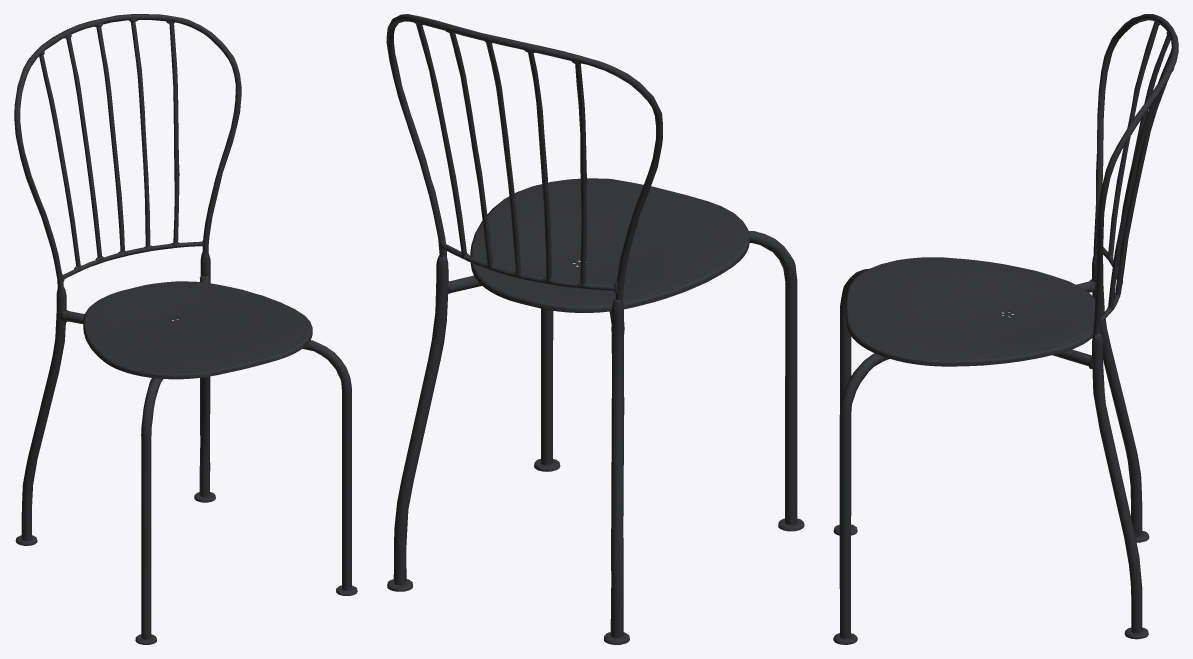
The model's file is lacko_krzeso_ogrodowe_60151840.glb.
The picture shows the model from 3 angles, left to right: view 1: azimuth 30°, elevation 25°; view 2: azimuth 150°, elevation 25°; view 3: azimuth 270°, elevation 25°; orthographic projection. The views are drawn at different scales.
Parts seen in each view (by area): view 1: lacko_krzeso_ogrodowe_60151840; view 2: lacko_krzeso_ogrodowe_60151840; view 3: lacko_krzeso_ogrodowe_60151840.
Part boxes in pixels (x1,y1,x2,y2): lacko_krzeso_ogrodowe_60151840: [14, 14, 357, 644]; lacko_krzeso_ogrodowe_60151840: [386, 14, 804, 644]; lacko_krzeso_ogrodowe_60151840: [833, 14, 1178, 644].
Bounding box in the file's own units: 0.42 × 0.87 × 0.5026.
Materials: 1 (1 with a texture image).
